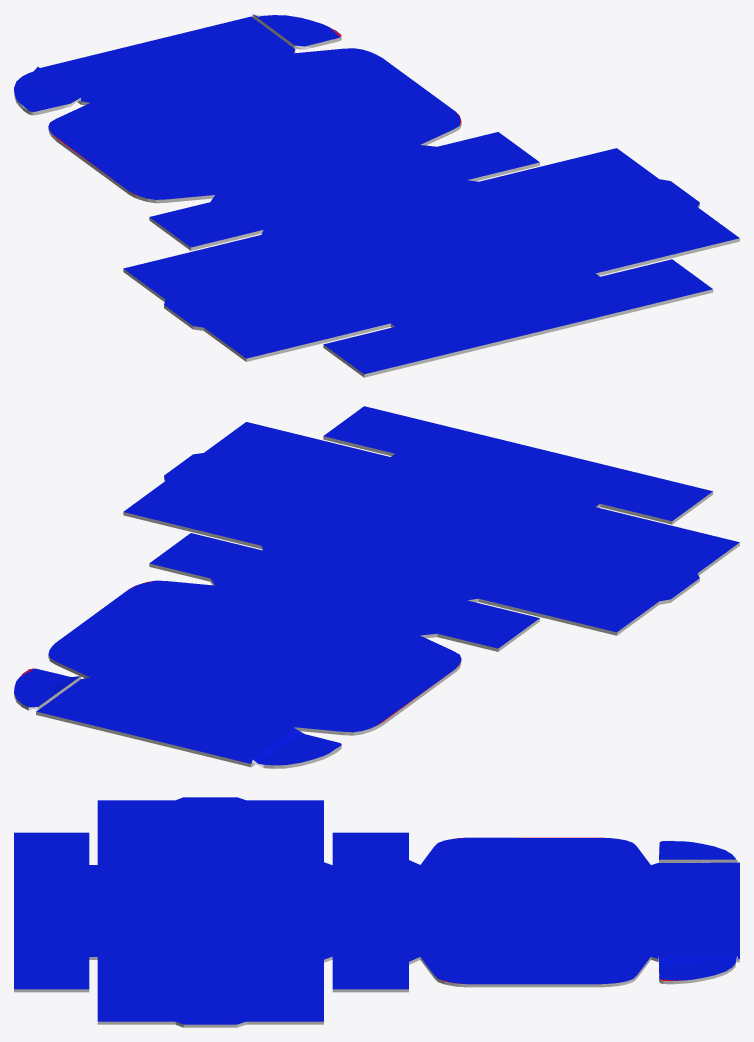
The model's file is francia.gltf.
The picture shows the model from 3 angles, top to bottom: view 1: azimuth 30°, elevation 25°; view 2: azimuth 150°, elevation 25°; view 3: azimuth 270°, elevation 25°; orthographic projection. The views are drawn at different scales.
Parts seen in each view (by area): view 1: Plane.001; view 2: Plane.001; view 3: Plane.001.
Part boxes in pixels (x1,y1,x2,y2): Plane.001: (14, 14, 739, 377); Plane.001: (14, 406, 739, 768); Plane.001: (14, 797, 739, 1027).
Size of the model in its own units: 2.84 by 0.0366 by 3.84.
